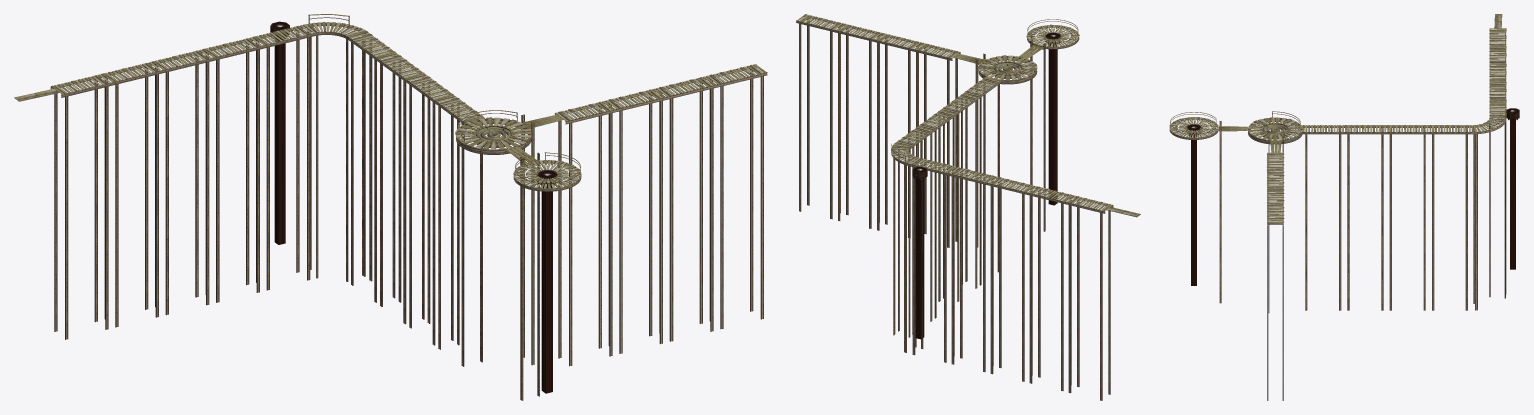
3 views of the same model, side by side, from view 1: azimuth 30°, elevation 25°; view 2: azimuth 150°, elevation 25°; view 3: azimuth 270°, elevation 25° (orthographic). The views are drawn at different scales.
Parts seen in each view (by area): view 1: Ramp_001__37_, Ramp_001__32_, Ramp_001__30_, Ramp_001__38_, Ramp_001__29_, Ramp_001__31_, Ramp_001__34_, Ramp_001__35_, Ramp_001__36_, Ramp_001__40_, Ramp_001__39_, Ramp_001__11_ (+8 smaller); view 2: Ramp_001__37_, Ramp_001__38_, Ramp_001__39_, Ramp_001__40_, Ramp_001__30_, Ramp_001__29_, ramp_009__3_, Ramp_001__33_, Ramp_001__32_, Ramp_001__31_, Ramp_001__11_, Ramp_001__34_ (+8 smaller); view 3: ramp_009__3_, Ramp_001__35_, Ramp_001__33_, Ramp_001__34_, Ramp_001__36_, Circle_ramp2, hakkero__4_, Ramp_001__29_, hakkero__3_, Circle_ramp__1_, PILLER_, Ramp_001__11_ (+7 smaller).
Boxes of the visible parts, x1,y1,x2,y2 form: Ramp_001__37_: [50, 74, 112, 339]; Ramp_001__32_: [554, 101, 616, 366]; Ramp_001__30_: [656, 76, 717, 341]; Ramp_001__38_: [101, 62, 162, 327]; Ramp_001__29_: [706, 64, 767, 329]; Ramp_001__31_: [605, 88, 666, 353]; Ramp_001__34_: [407, 75, 455, 345]; Ramp_001__35_: [378, 54, 426, 324]; Ramp_001__36_: [349, 33, 396, 302]; Ramp_001__40_: [202, 37, 263, 302]; Ramp_001__39_: [151, 49, 212, 315]; Ramp_001__11_: [252, 25, 313, 290]; Ramp_001__37_: [1066, 195, 1113, 400]; Ramp_001__38_: [1027, 186, 1074, 390]; Ramp_001__39_: [988, 176, 1035, 381]; Ramp_001__40_: [949, 167, 996, 371]; Ramp_001__30_: [835, 23, 882, 228]; Ramp_001__29_: [796, 14, 843, 219]; ramp_009__3_: [891, 142, 918, 352]; Ramp_001__33_: [964, 76, 1001, 285]; Ramp_001__32_: [913, 42, 960, 247]; Ramp_001__31_: [874, 33, 921, 237]; Ramp_001__11_: [910, 157, 957, 362]; Ramp_001__34_: [941, 93, 978, 301]; ramp_009__3_: [1471, 117, 1506, 310]; Ramp_001__35_: [1386, 125, 1428, 310]; Ramp_001__33_: [1302, 125, 1344, 310]; Ramp_001__34_: [1344, 125, 1386, 310]; Ramp_001__36_: [1429, 125, 1470, 310]; Circle_ramp2: [1247, 117, 1302, 144]; hakkero__4_: [1506, 108, 1519, 269]; Ramp_001__29_: [1267, 206, 1284, 400]; hakkero__3_: [1187, 124, 1200, 285]; Circle_ramp__1_: [1169, 117, 1218, 139]; PILLER_: [1219, 121, 1221, 303]; Ramp_001__11_: [1489, 99, 1506, 294].
Bounding box in the file's own units: 5863 × 2414 × 4143.
